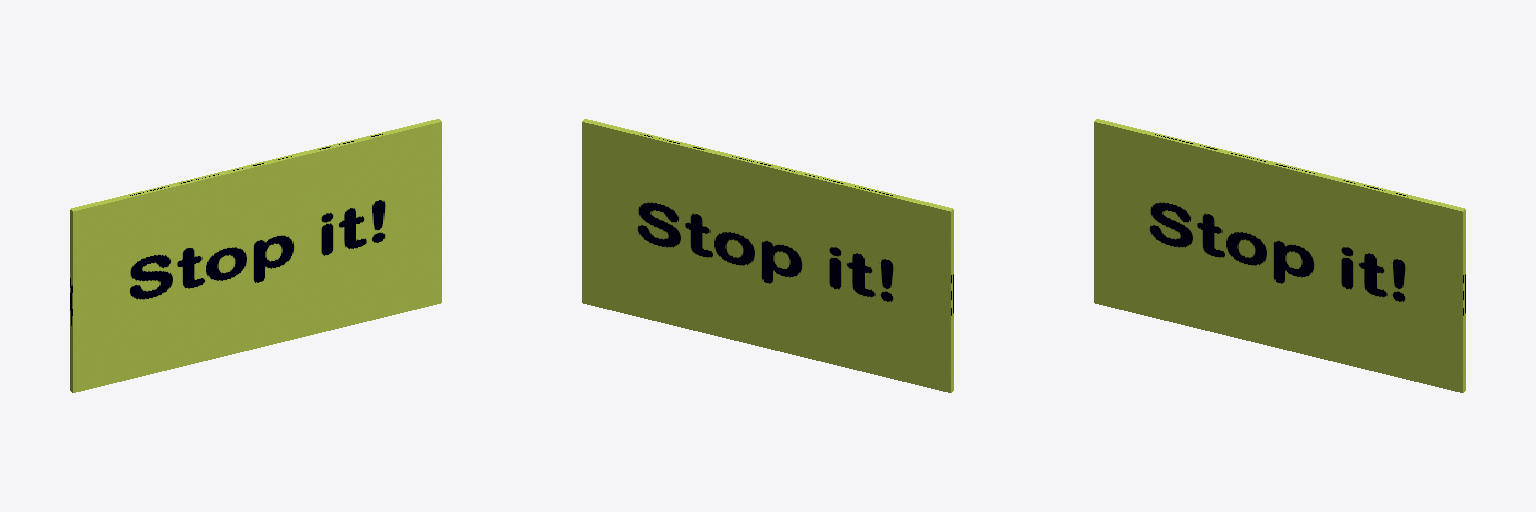
The picture shows the model from 3 angles: view 1: azimuth 30°, elevation 25°; view 2: azimuth 150°, elevation 25°; view 3: azimuth 330°, elevation 25°; orthographic projection.
Parts seen in each view (by area): view 1: Box001; view 2: Box001; view 3: Box001.
Part boxes in pixels (x1,y1,x2,y2): Box001: (70,119,441,392); Box001: (582,119,953,392); Box001: (1094,119,1465,392).
Size of the model in its own units: 31.29 by 14.71 by 0.5639.
1 materials, 1 textured.